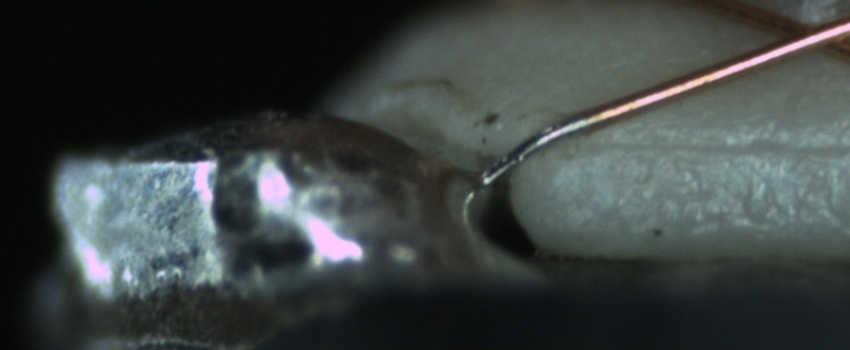CL: (750, 4, 849, 63)
DL: (600, 111, 849, 179)
TS: (477, 113, 592, 187)
